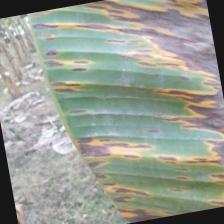sigatoka: (27, 0, 224, 224)
